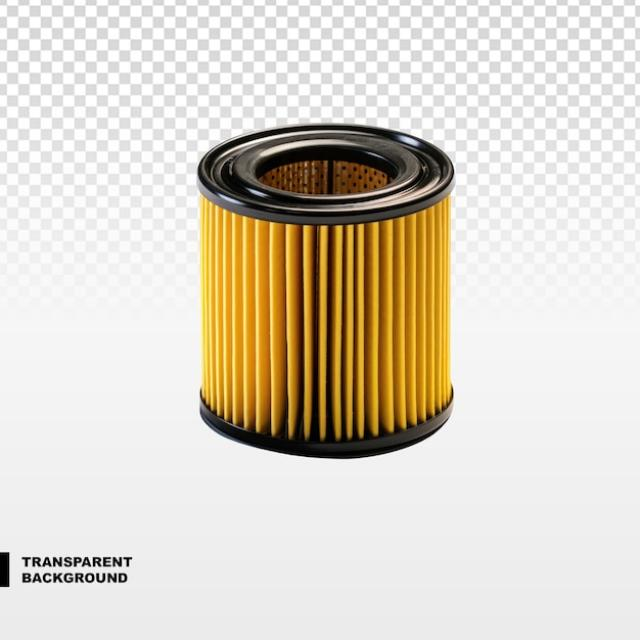oil_filter: (190, 120, 479, 464)
